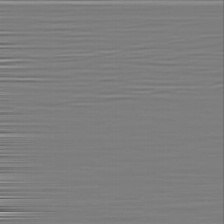cavities: (63, 63, 224, 126)
